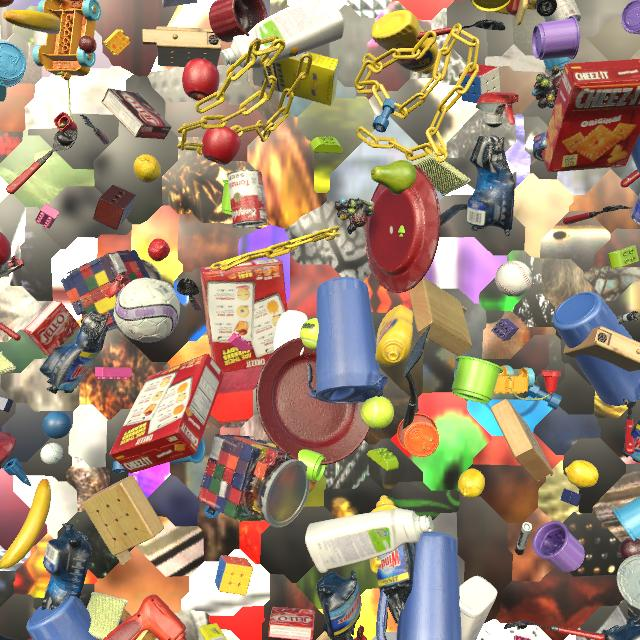ycb_002_master_chef_can: (617, 554, 640, 609), (631, 194, 640, 225)
ycb_003_cracker_box: (109, 353, 224, 474), (541, 59, 640, 172), (199, 258, 288, 373)
ycb_004_sugar_box: (252, 51, 339, 106), (199, 623, 227, 640)
ycb_005_tomato_soup_can: (228, 169, 267, 228), (544, 0, 581, 22)
ycb_006_mustard_bottle: (372, 10, 438, 74), (375, 305, 413, 367), (370, 495, 397, 574)
ycb_007_tuna_fish_can: (533, 132, 547, 162)
ycb_008_pudding_box: (101, 88, 171, 139)
ycb_009_gelatin_box: (24, 300, 80, 356), (268, 607, 315, 640), (162, 0, 198, 8)
ycb_011_banana: (0, 479, 51, 569), (3, 10, 61, 34)
ycb_012_strawberry: (148, 239, 170, 261)
ycb_013_apple: (201, 123, 241, 165), (182, 59, 220, 101), (0, 232, 11, 266)
ycb_014_lemon: (565, 460, 599, 488), (458, 468, 485, 498), (134, 154, 161, 183)
ycb_015_peach: (309, 481, 317, 493)
ycb_016_pear: (371, 160, 416, 195)
ycb_017_orange: (0, 0, 14, 7)
ycb_018_plum: (619, 537, 640, 560)
